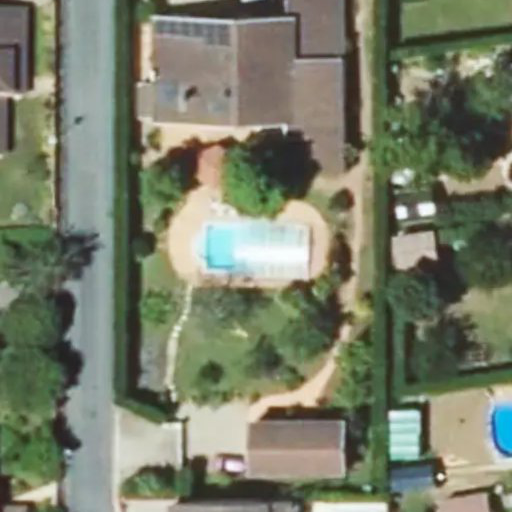pool: (204, 218, 305, 263)
